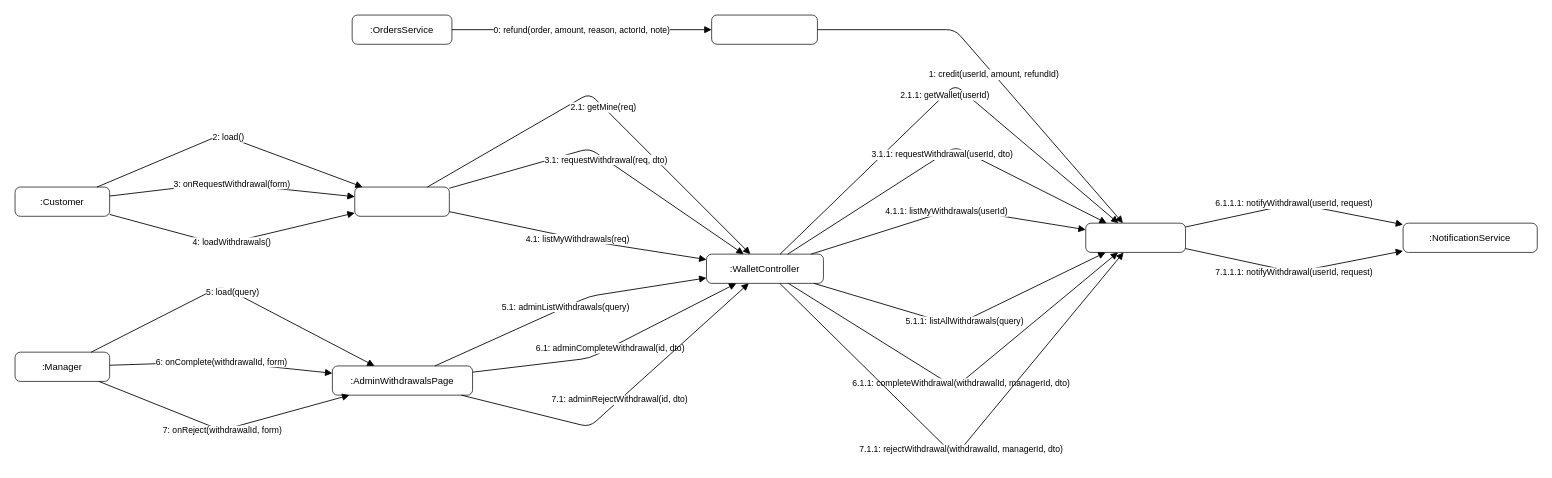
Some shapes in this 1552 by 478 pixel diagram are drawn without their labels. Each missing label, with the centre of its shape:
:RefundsService: the point at 764,29
:WalletPage: the point at 401,201
:WalletService: the point at 1135,237
